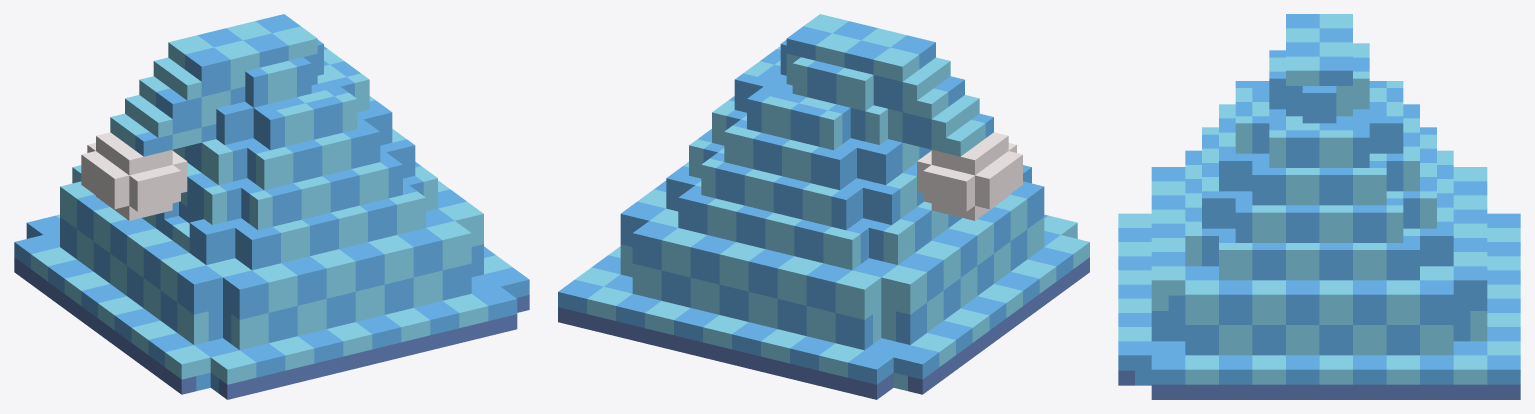
3 renders of one model, left to right at view 1: azimuth 30°, elevation 25°; view 2: azimuth 150°, elevation 25°; view 3: azimuth 270°, elevation 25°, orthographic.
Parts seen in each view (by area): view 1: 90; view 2: 90; view 3: 90.
Boxes of the visible parts, x1,y1,x2,y2 form: 90: [14, 14, 529, 399]; 90: [558, 14, 1089, 399]; 90: [1118, 14, 1520, 399].
Size of the model in its own units: 0.9449 by 0.6693 by 0.9449.
1 material, 1 textured.
